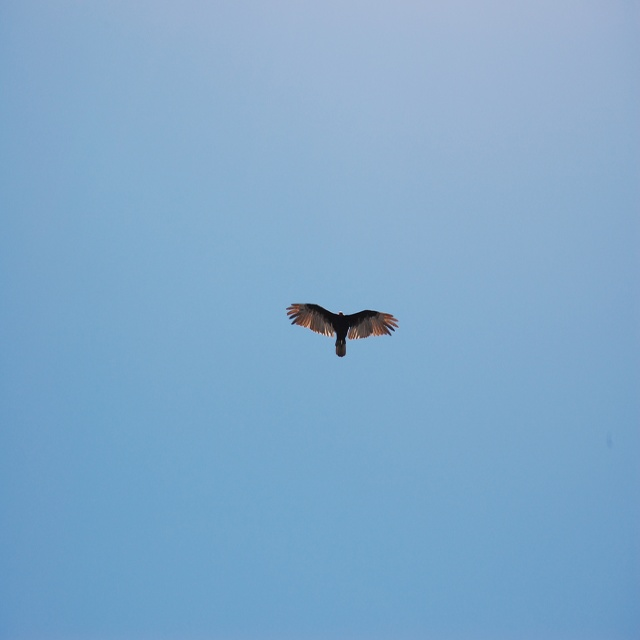Eagle: (279, 304, 404, 365)
